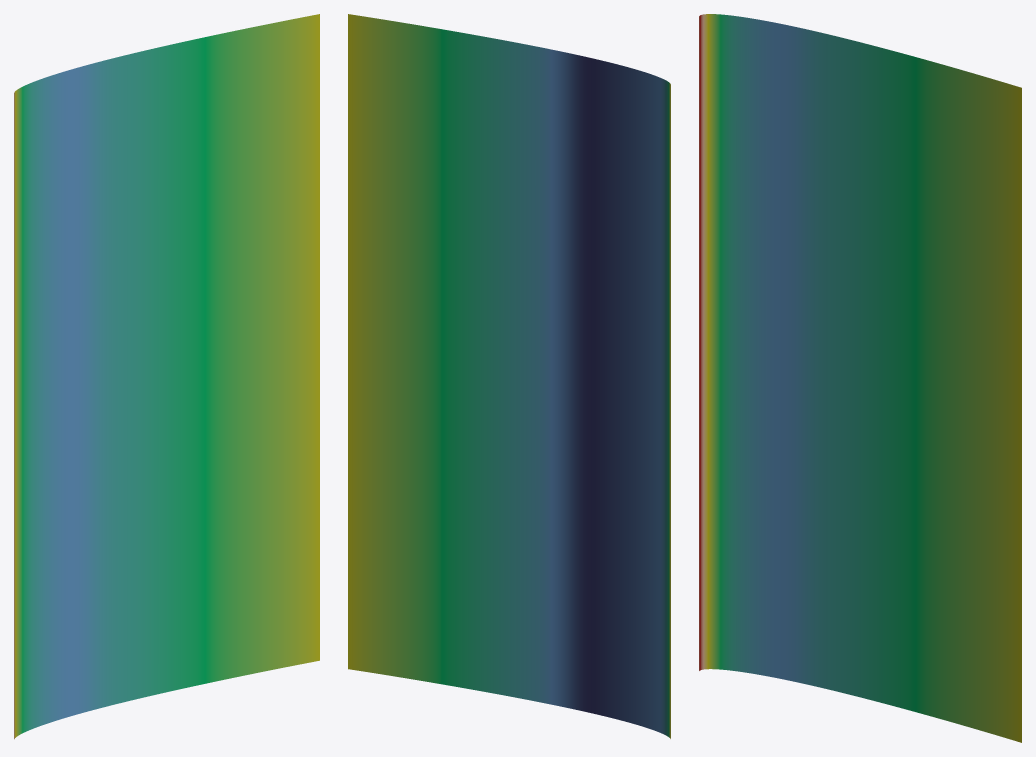
Rendered from morphing_wing_10.glb.
The picture shows the model from 3 angles, left to right: view 1: azimuth 30°, elevation 25°; view 2: azimuth 150°, elevation 25°; view 3: azimuth 330°, elevation 25°; orthographic projection.
Parts seen in each view (by area): view 1: part_0_0; view 2: part_0_0; view 3: part_0_0.
Part boxes in pixels (x1=…): part_0_0: x1=14, y1=14, x2=319, y2=739; part_0_0: x1=348, y1=14, x2=670, y2=738; part_0_0: x1=699, y1=14, x2=1021, y2=742.
Size of the model in its own units: 1.01 by 2 by 0.123.
